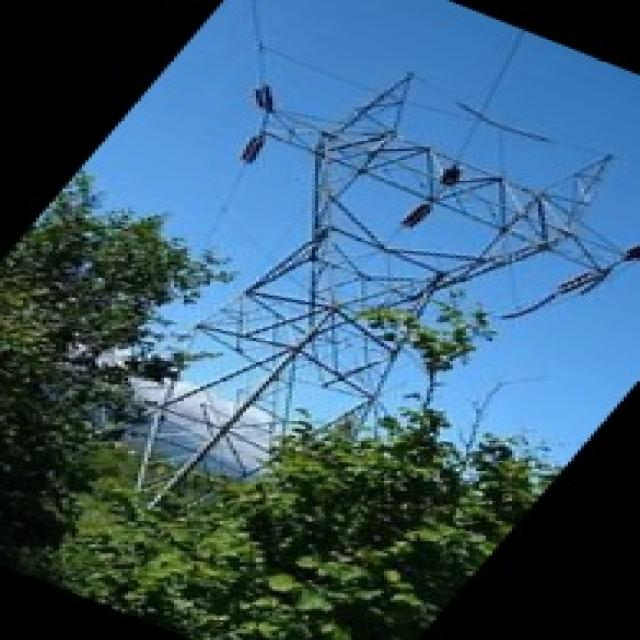utility poles: (334, 288, 552, 485), (106, 233, 260, 404)
